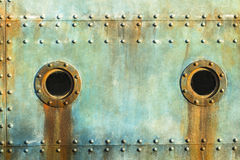rivet: (137, 138, 144, 144), (105, 139, 112, 145), (48, 100, 54, 106), (74, 74, 80, 80), (64, 62, 70, 68), (193, 61, 199, 67), (232, 145, 238, 151), (184, 146, 190, 152), (185, 138, 191, 144), (169, 146, 175, 152), (153, 138, 159, 144), (120, 146, 126, 152), (105, 147, 111, 153), (89, 147, 95, 153), (89, 138, 95, 144), (8, 139, 14, 145), (8, 123, 14, 129), (75, 90, 81, 95), (37, 89, 43, 94), (194, 99, 199, 105), (209, 62, 214, 68), (234, 137, 239, 143), (215, 146, 221, 151), (200, 146, 206, 151), (169, 138, 175, 143), (153, 147, 159, 152), (137, 147, 143, 152), (121, 139, 127, 144), (73, 148, 79, 153), (73, 138, 78, 144), (57, 140, 63, 145), (40, 148, 46, 153), (41, 139, 47, 144), (25, 139, 30, 145), (7, 57, 13, 62), (64, 101, 69, 106), (48, 63, 53, 68), (183, 73, 188, 78), (183, 88, 188, 93), (220, 88, 225, 93), (220, 73, 225, 78), (217, 138, 222, 143), (202, 138, 207, 143), (57, 148, 62, 153), (25, 148, 30, 153), (9, 148, 14, 153), (8, 107, 13, 112), (8, 90, 13, 95), (7, 73, 12, 78), (233, 39, 238, 44), (233, 23, 238, 28), (233, 14, 238, 19), (216, 39, 221, 44), (216, 23, 221, 28), (201, 23, 206, 28), (202, 15, 207, 20), (184, 22, 189, 27), (185, 14, 190, 19), (168, 23, 173, 28), (153, 23, 158, 28), (120, 39, 125, 44), (121, 23, 126, 28), (104, 23, 109, 28), (105, 14, 110, 19), (89, 15, 94, 20), (72, 40, 77, 45), (73, 23, 78, 28), (74, 15, 79, 20), (56, 40, 61, 45), (40, 40, 45, 45), (23, 23, 28, 28), (39, 23, 44, 28), (2, 140, 6, 146), (1, 123, 5, 129), (38, 74, 43, 78), (209, 100, 214, 104), (1, 148, 5, 153), (1, 107, 5, 112), (1, 90, 5, 95), (185, 40, 190, 44), (168, 40, 173, 44), (169, 15, 174, 19), (153, 16, 158, 20), (136, 40, 141, 44), (137, 23, 142, 27), (139, 15, 143, 20), (121, 16, 126, 20), (104, 40, 109, 44), (89, 39, 93, 44), (89, 23, 93, 28), (24, 40, 28, 45), (8, 40, 12, 45), (1, 73, 4, 79), (1, 58, 5, 62), (218, 16, 222, 20), (201, 40, 205, 44), (153, 40, 157, 44), (1, 41, 5, 45), (8, 24, 12, 28), (56, 24, 60, 28), (57, 16, 61, 20), (41, 16, 45, 20), (8, 16, 12, 20), (8, 1, 13, 4), (1, 23, 4, 28), (25, 16, 28, 20), (1, 16, 4, 20)
